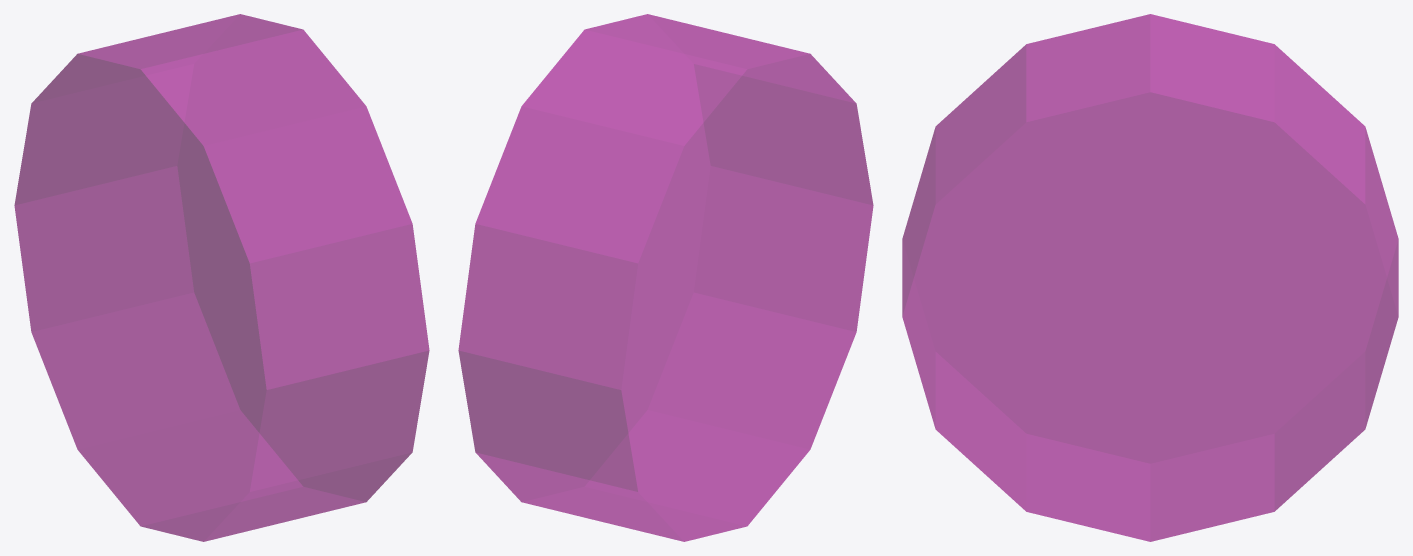
File: SM_Veh_Truck_Food_01_Wheel_fl_Collision.fbx
3 renders of one model, left to right at view 1: azimuth 30°, elevation 25°; view 2: azimuth 150°, elevation 25°; view 3: azimuth 270°, elevation 25°, orthographic.
Parts seen in each view (by area): view 1: SM_Veh_Truck_Food_01_Wheel_fl_Collision; view 2: SM_Veh_Truck_Food_01_Wheel_fl_Collision; view 3: SM_Veh_Truck_Food_01_Wheel_fl_Collision.
Part boxes in pixels (x1,y1,x2,y2): SM_Veh_Truck_Food_01_Wheel_fl_Collision: (14,14,429,541); SM_Veh_Truck_Food_01_Wheel_fl_Collision: (458,14,873,541); SM_Veh_Truck_Food_01_Wheel_fl_Collision: (902,14,1398,541).
Size of the model in its own units: 31.98 by 85.77 by 85.77.
